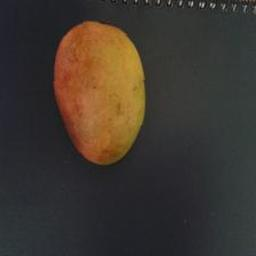Mango Semifresh: (49, 13, 158, 183)
